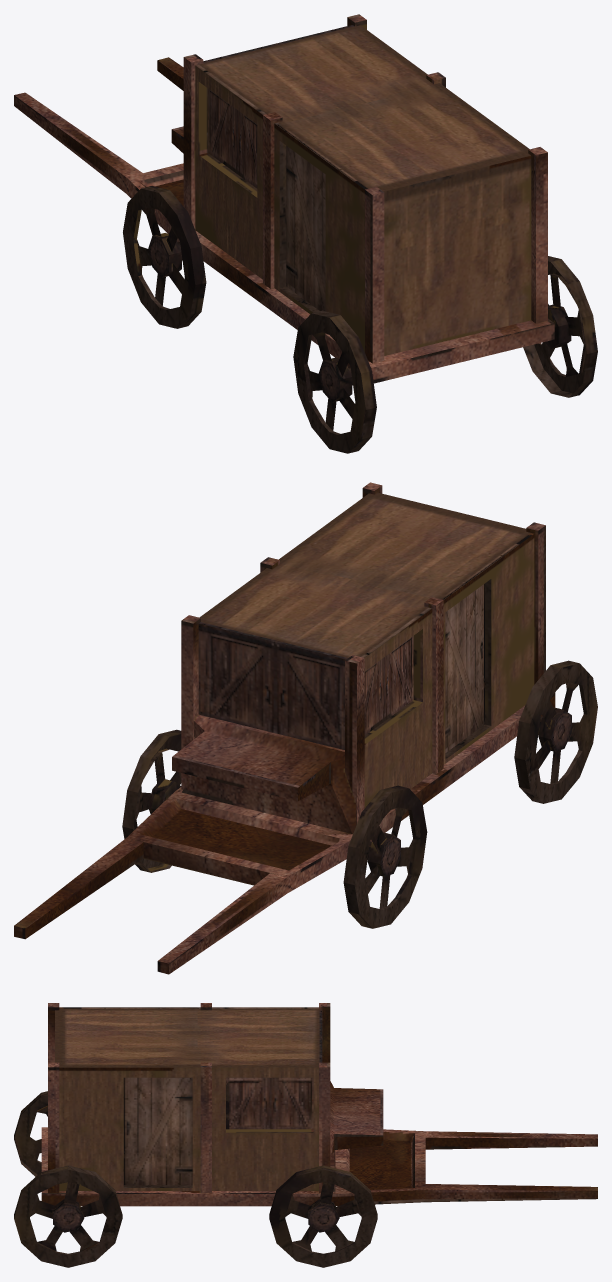
Rendered from wagon.glb.
3 views of the same model, one above another, from view 1: azimuth 30°, elevation 25°; view 2: azimuth 150°, elevation 25°; view 3: azimuth 270°, elevation 25° (orthographic). The views are drawn at different scales.
Visible parts, largest first — view 1: wagon; view 2: wagon; view 3: wagon.
Part boxes in pixels (bbox=[...]): wagon: bbox=[14, 14, 597, 453]; wagon: bbox=[14, 482, 597, 974]; wagon: bbox=[14, 1003, 597, 1267].
Bounding box in the file's own units: 2.61 × 2.76 × 7.59.
Materials: 1 (1 with a texture image).
